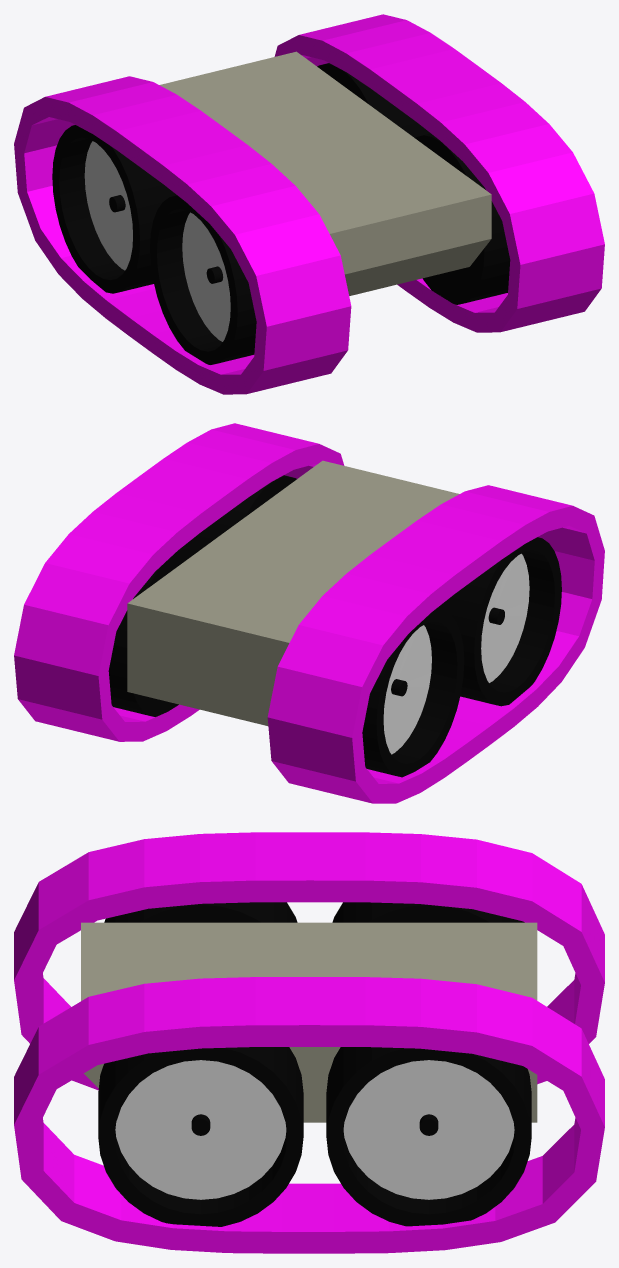
The model's file is rm_spacetech_mx1_base.fbx.
3 views of the same model, one above another, from view 1: azimuth 30°, elevation 25°; view 2: azimuth 150°, elevation 25°; view 3: azimuth 270°, elevation 25° (orthographic). The views are drawn at different scales.
Parts seen in each view (by area): view 1: RM_MX_01_Tracks, RM_MX_01_Base, RM_MX_01_Fwd_Wheels, RM_MX_01_Bwd_Wheels; view 2: RM_MX_01_Tracks, RM_MX_01_Base, RM_MX_01_Fwd_Wheels, RM_MX_01_Bwd_Wheels; view 3: RM_MX_01_Tracks, RM_MX_01_Fwd_Wheels, RM_MX_01_Bwd_Wheels, RM_MX_01_Base.
Part boxes in pixels (<box>): RM_MX_01_Tracks: <box>14,14,604,394</box>; RM_MX_01_Base: <box>159,51,491,295</box>; RM_MX_01_Fwd_Wheels: <box>150,133,510,364</box>; RM_MX_01_Bwd_Wheels: <box>52,63,430,293</box>; RM_MX_01_Tracks: <box>14,423,604,803</box>; RM_MX_01_Base: <box>127,460,459,725</box>; RM_MX_01_Fwd_Wheels: <box>184,475,561,706</box>; RM_MX_01_Bwd_Wheels: <box>108,546,464,777</box>; RM_MX_01_Tracks: <box>14,832,604,1253</box>; RM_MX_01_Fwd_Wheels: <box>98,902,303,1226</box>; RM_MX_01_Bwd_Wheels: <box>326,902,531,1226</box>; RM_MX_01_Base: <box>81,922,537,1122</box>.
Size of the model in its own units: 800 by 442 by 1036.
